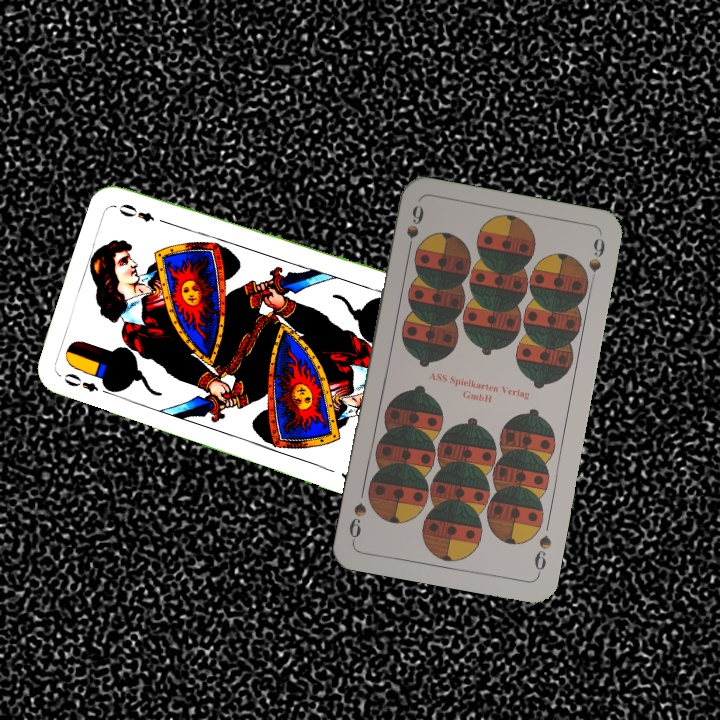EO: (60, 369, 115, 398)
S9: (402, 201, 427, 259), (530, 531, 554, 578)
